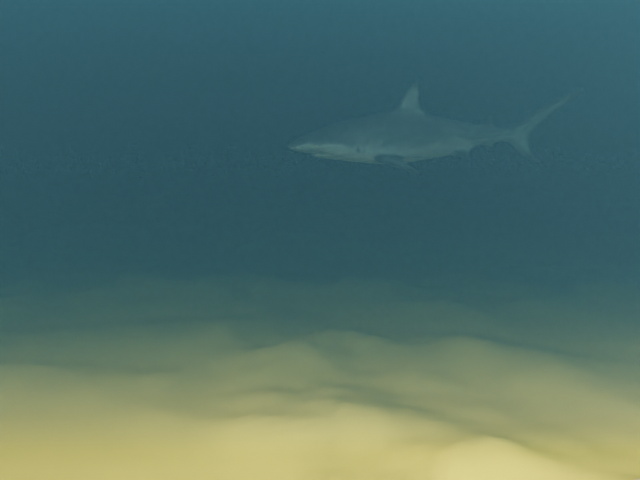Carribean Shark.001: (287, 80, 582, 173)
